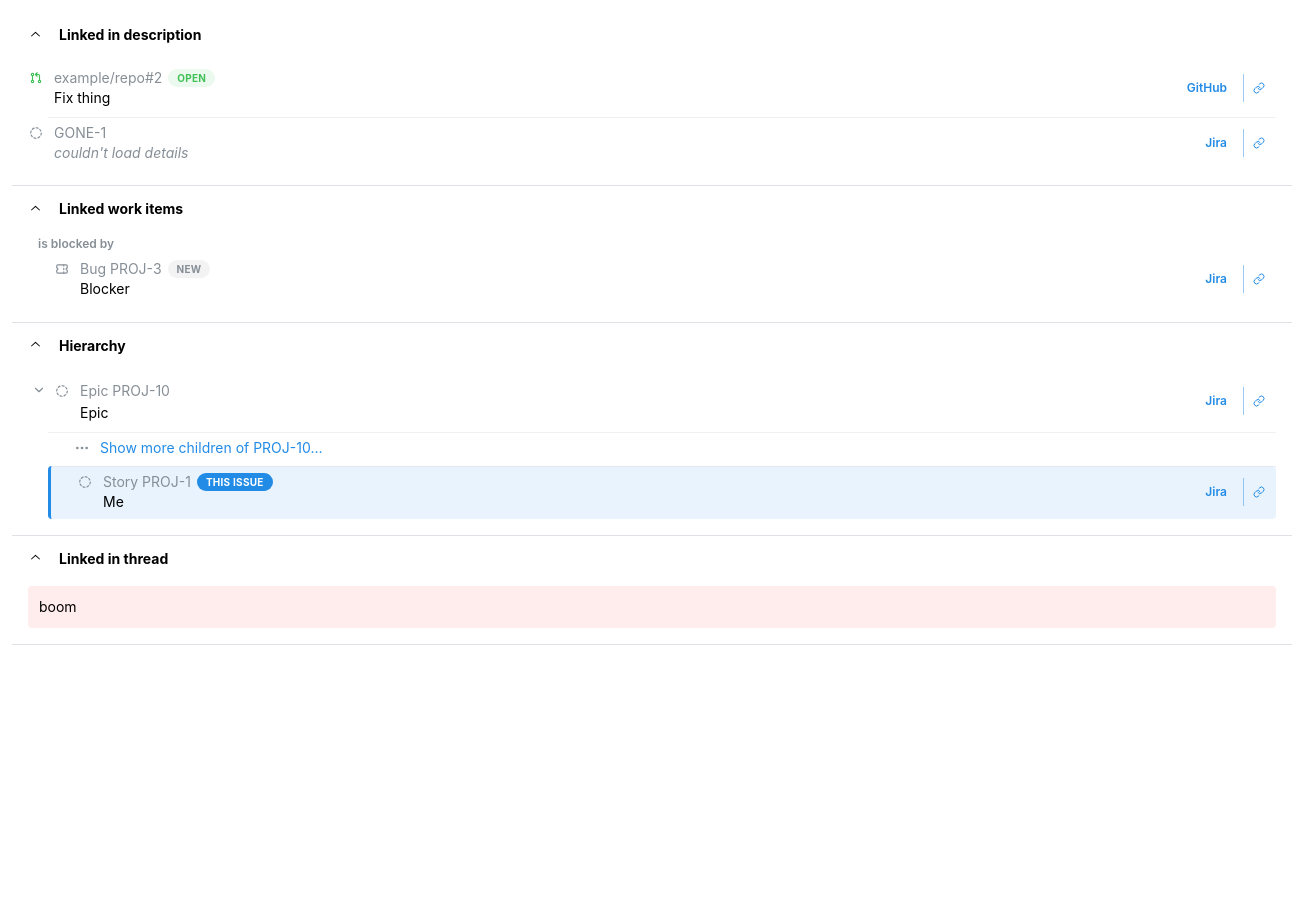
Test: LinkedResourcesPanel › gives no chevron to a node whose children turn out to be none
The width and height of the screenshot is (1304, 912).
What coordinates should you click on to do the following:
click the button "Show more children of PROJ-10…"
I would click on:
 (211, 448)
Its box is [100,438,322,458].
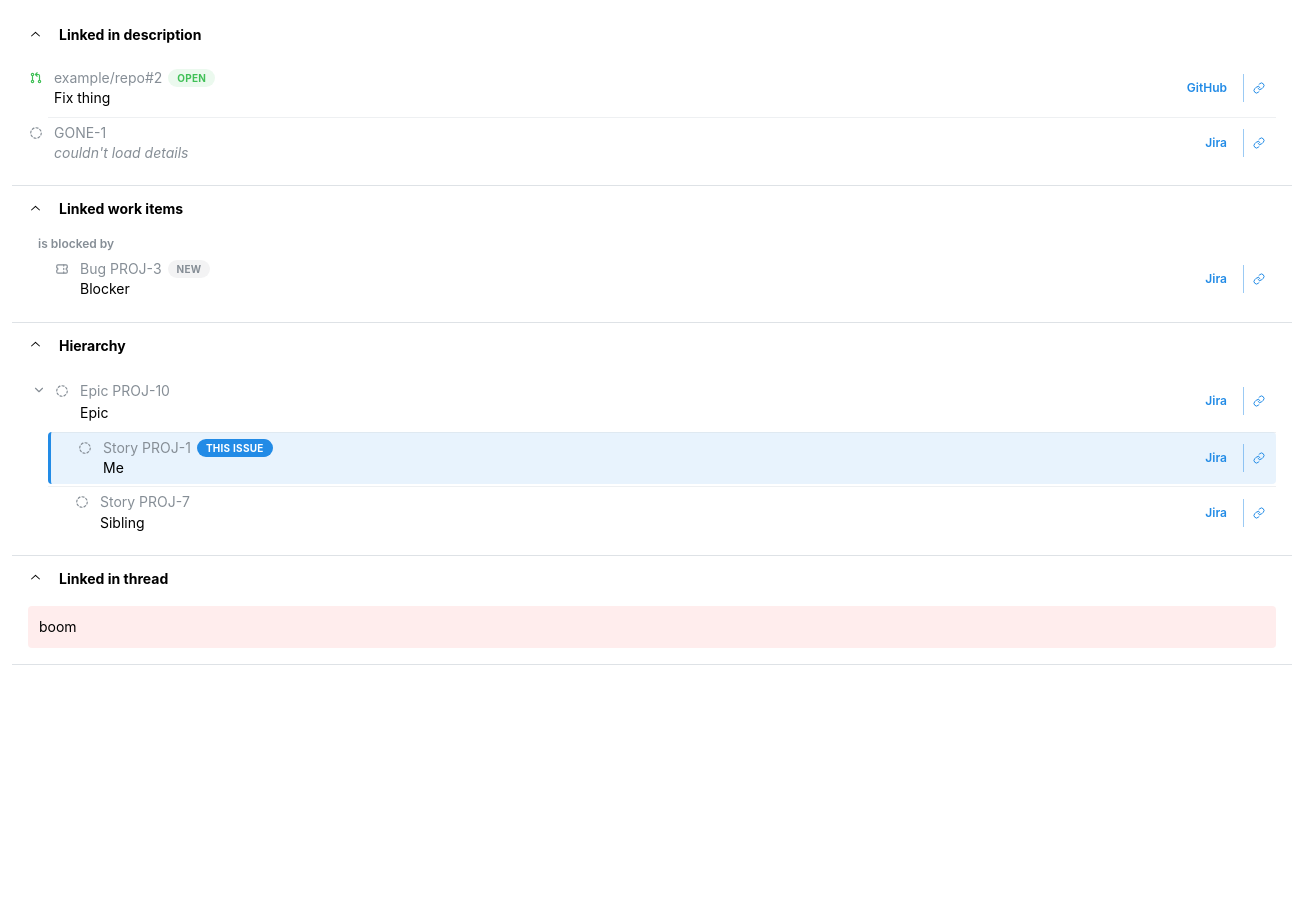
Now the text "Sibling" is shown, box [100,514,145,531]
